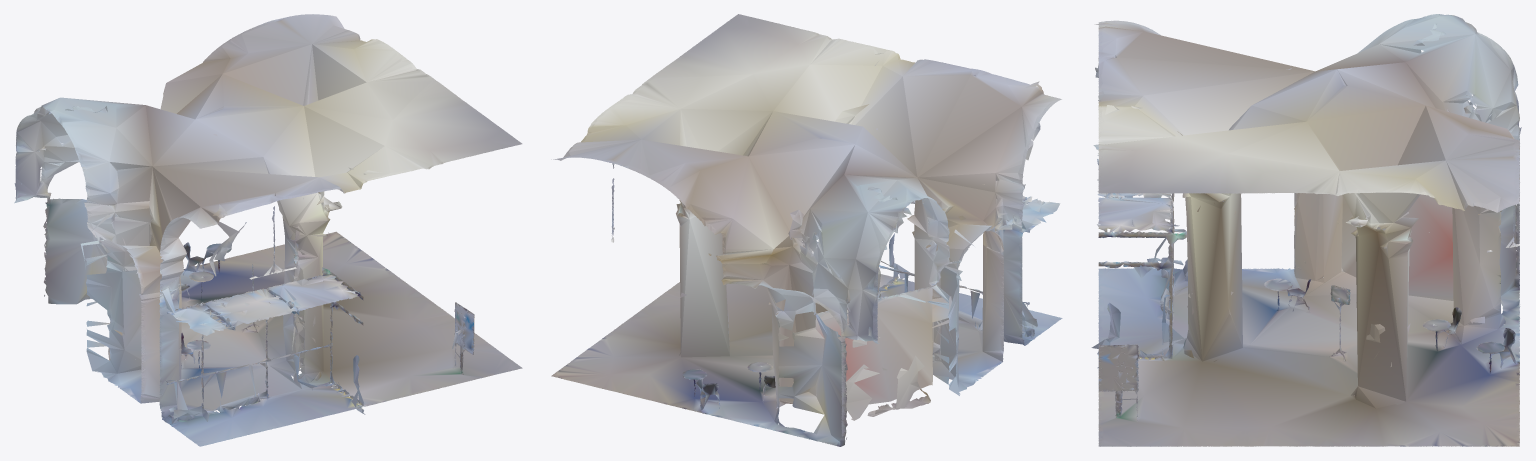
The picture shows the model from 3 angles, left to right: view 1: azimuth 30°, elevation 25°; view 2: azimuth 150°, elevation 25°; view 3: azimuth 270°, elevation 25°; orthographic projection. The views are drawn at different scales.
Bounding box in the file's own units: 10.38 × 7.1 × 10.22.
